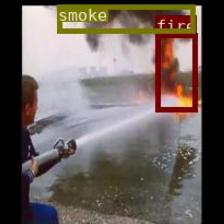fire: (155, 32, 196, 112)
smoke: (57, 4, 194, 33)
